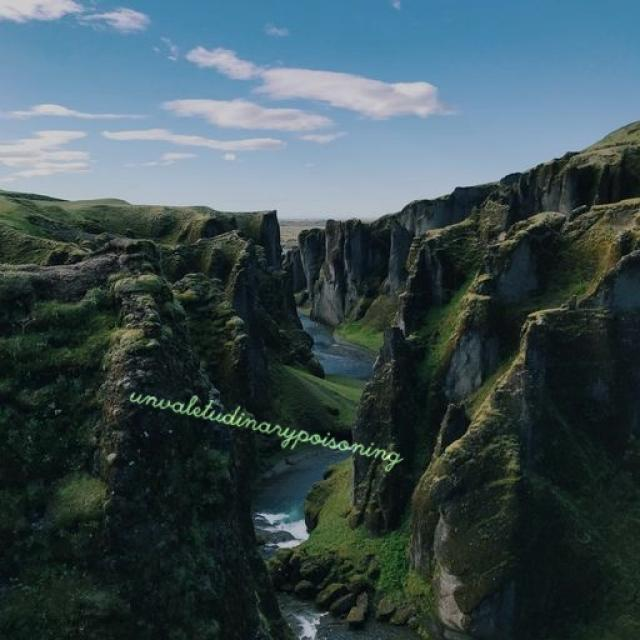watermark: (123, 379, 420, 467)
